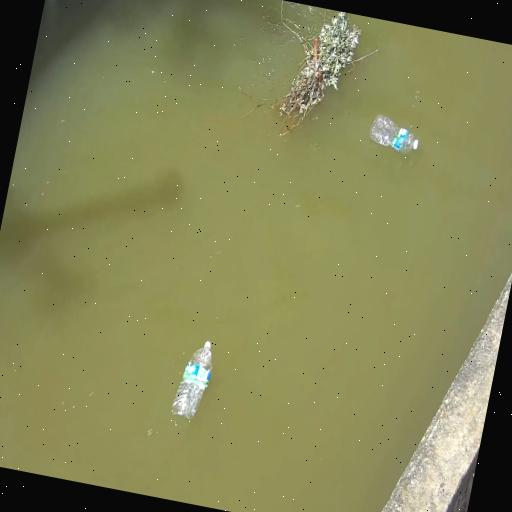plastic: (172, 340, 212, 419), (370, 115, 418, 153)
twig: (250, 0, 384, 154)
